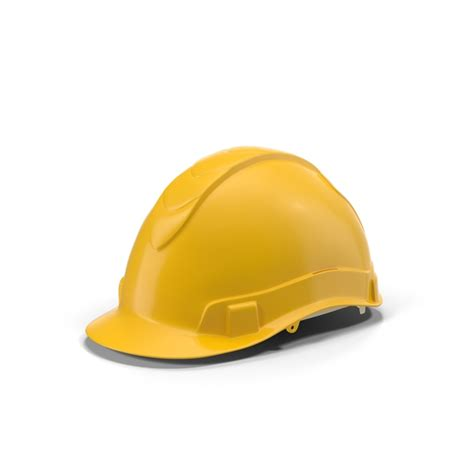???: (85, 145, 383, 361)
